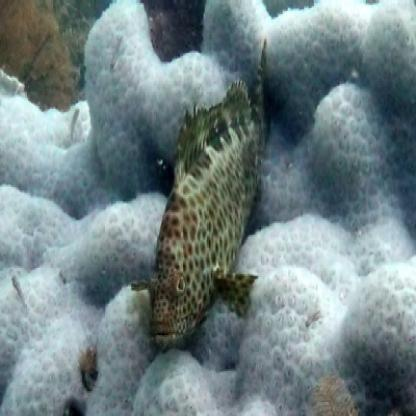grouper: (129, 32, 272, 355)
